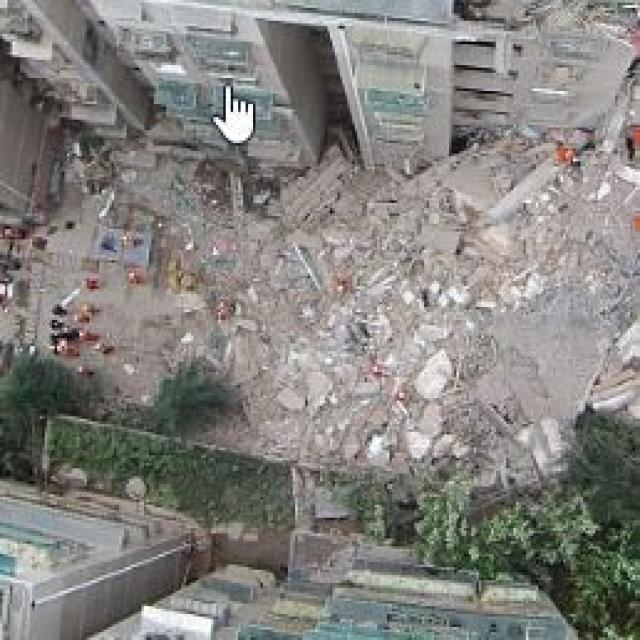collapsed_building: (243, 130, 635, 442)
